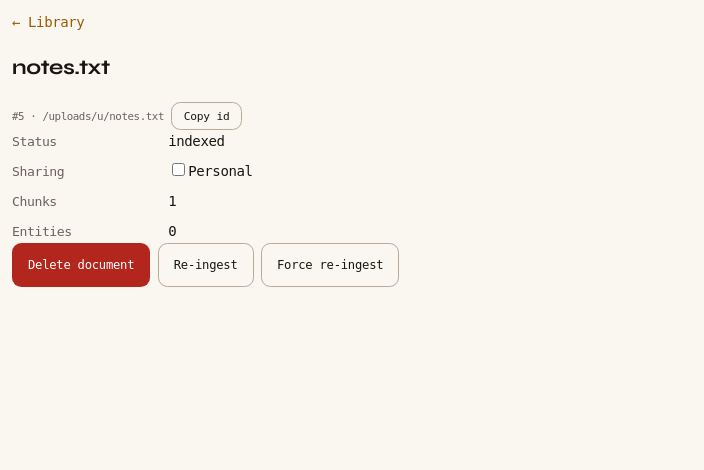
it: DocumentDetailView › does not navigate away on partial delete — shows banner and retry button
The width and height of the screenshot is (704, 470).
Click the button "Delete document" at x=81, y=265, box [12,243,150,287]
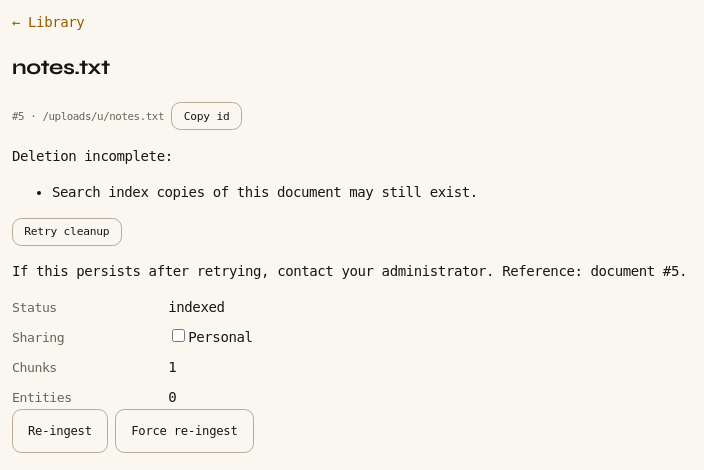
Expected: the heading "notes.txt" is shown, [12,54,110,80]
Expected: the message is shown, [12,148,687,279]
Expected: the button "Retry cleanup" is shown, [12,218,122,246]
